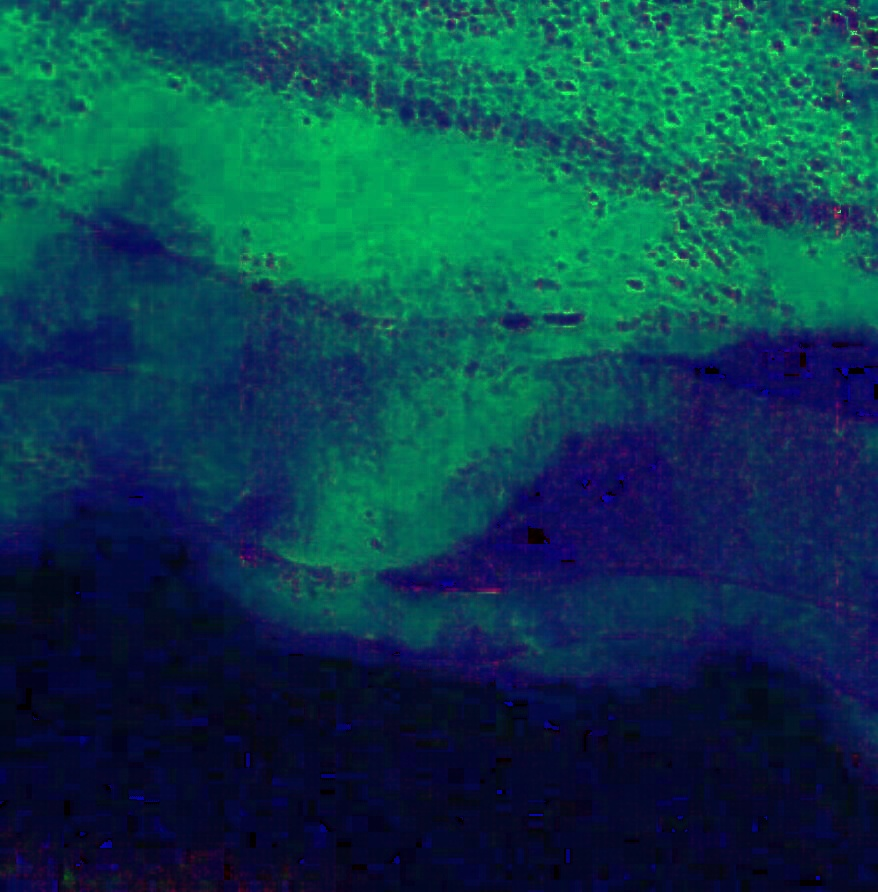rip_current: (171, 202, 742, 600)
